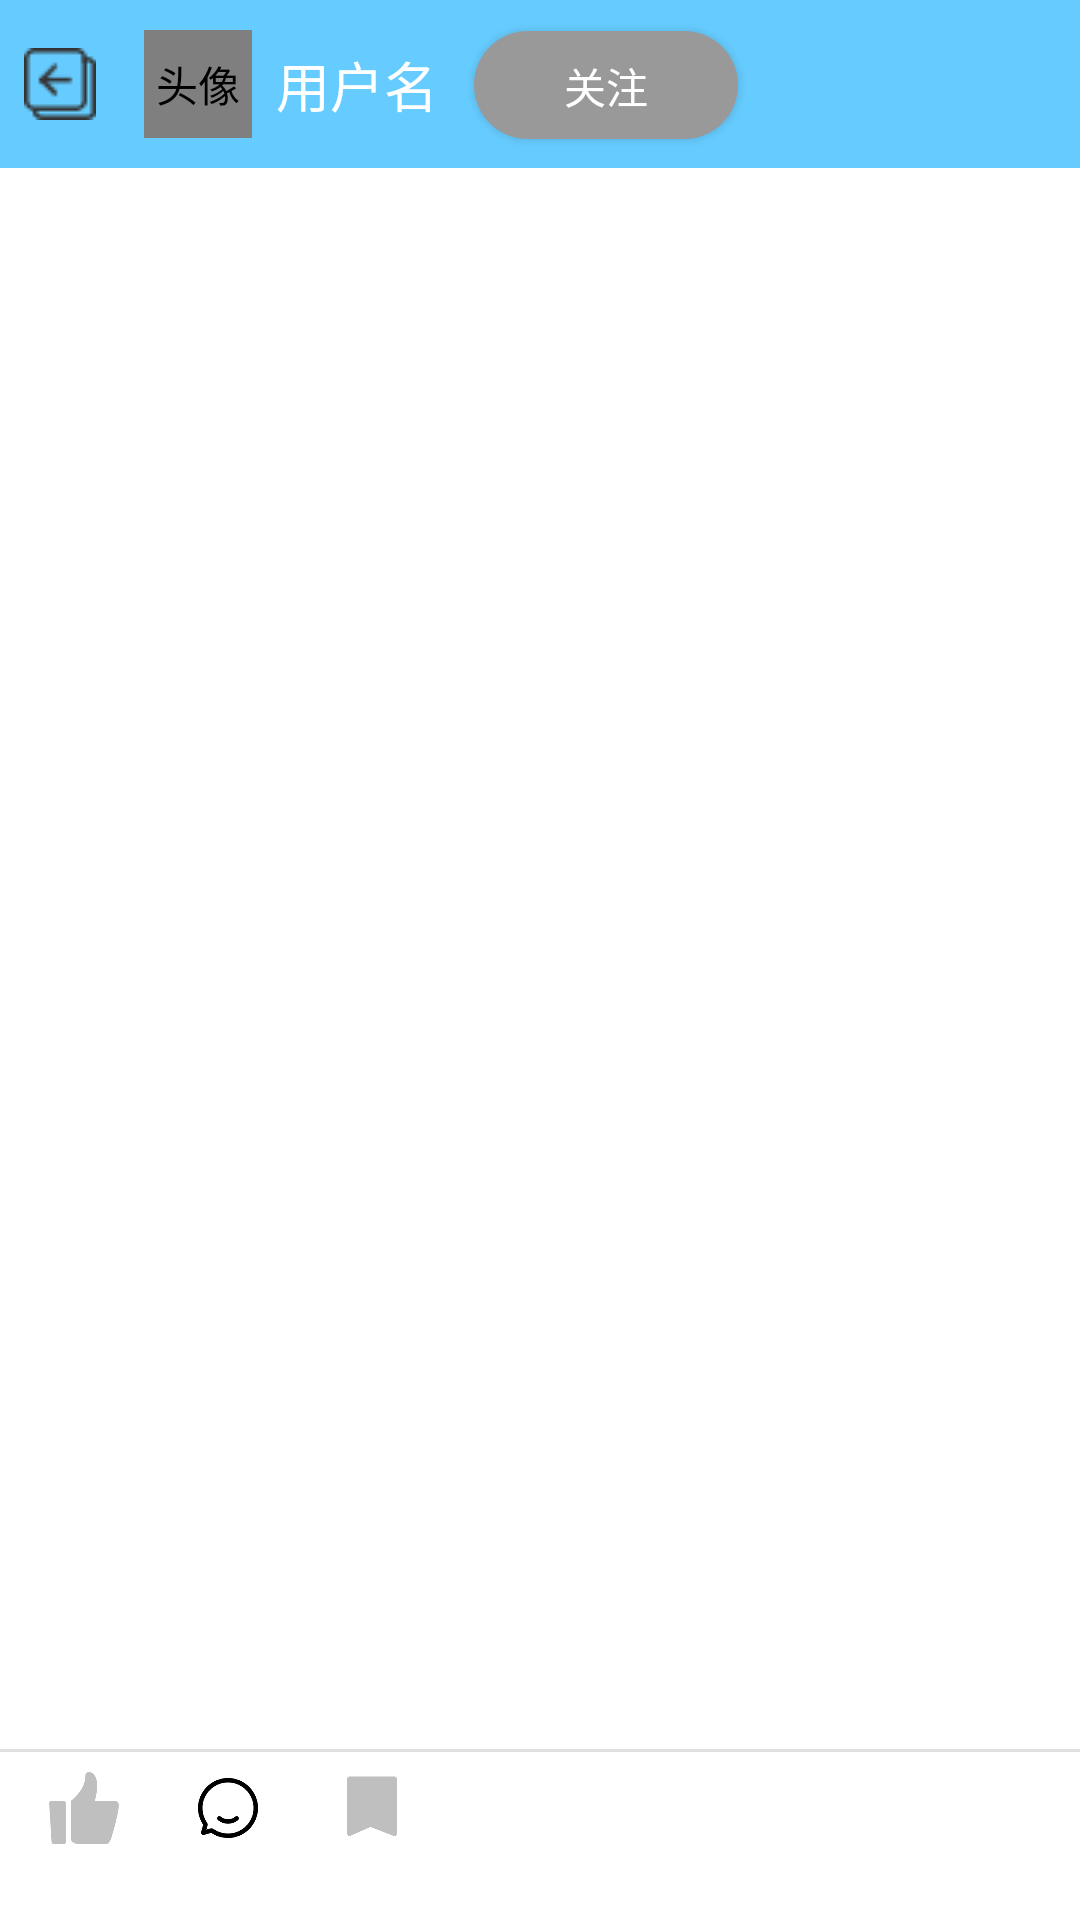

Icon click points for this 1080 × 1920 phone screenshot, format (x,y):
收藏: (372,1806)
点赞: (84,1808)
评论: (228,1808)
返回: (60,84)
